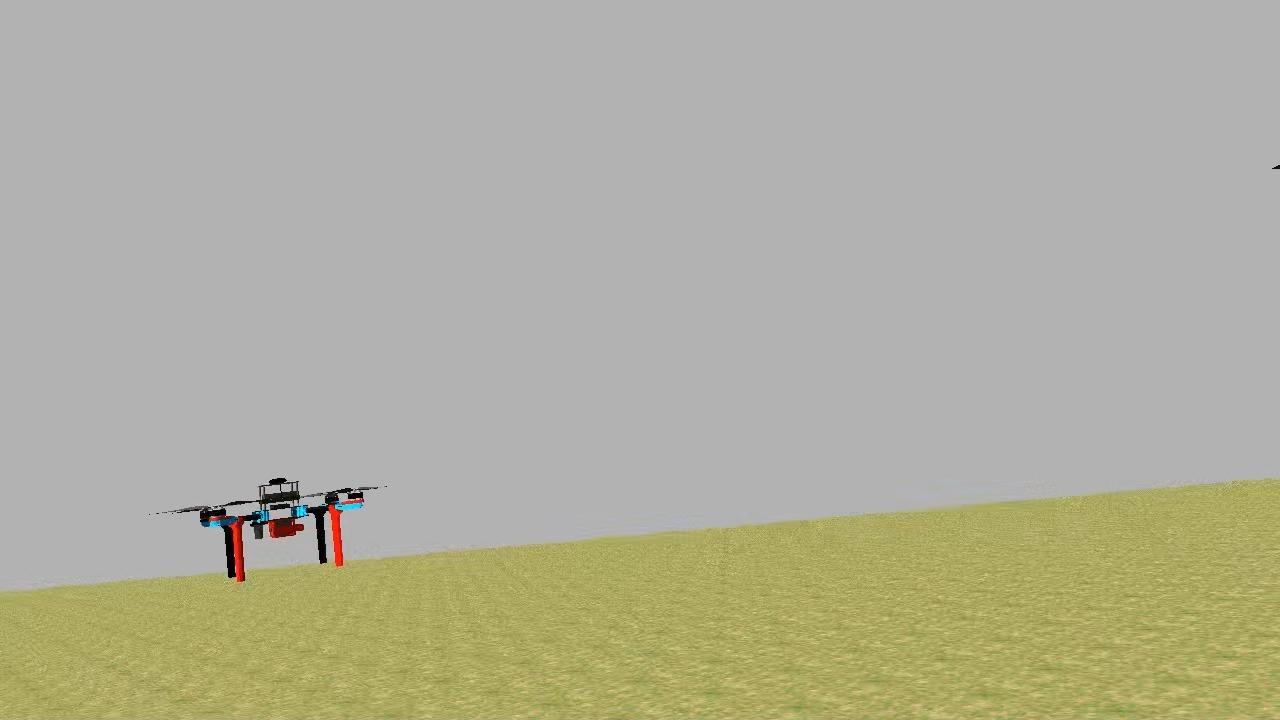UAV: (195, 470, 372, 586)
